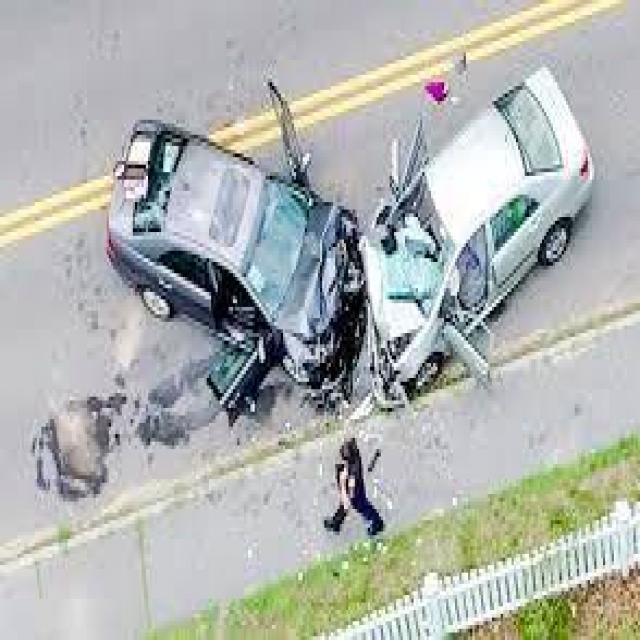multiple_accident: (103, 74, 583, 373)
